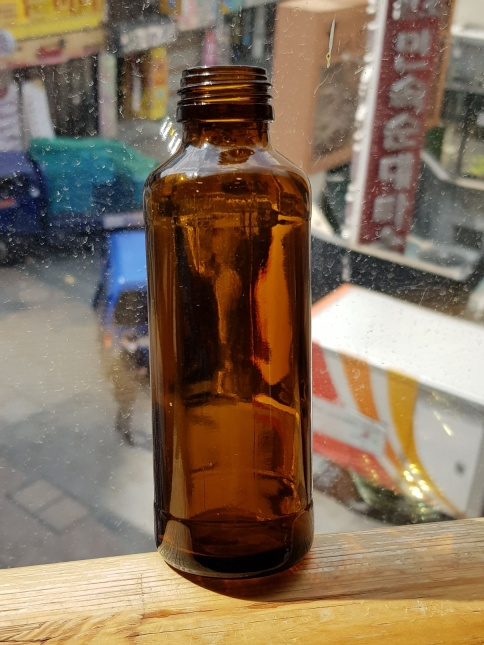Glass: (138, 62, 319, 584)
